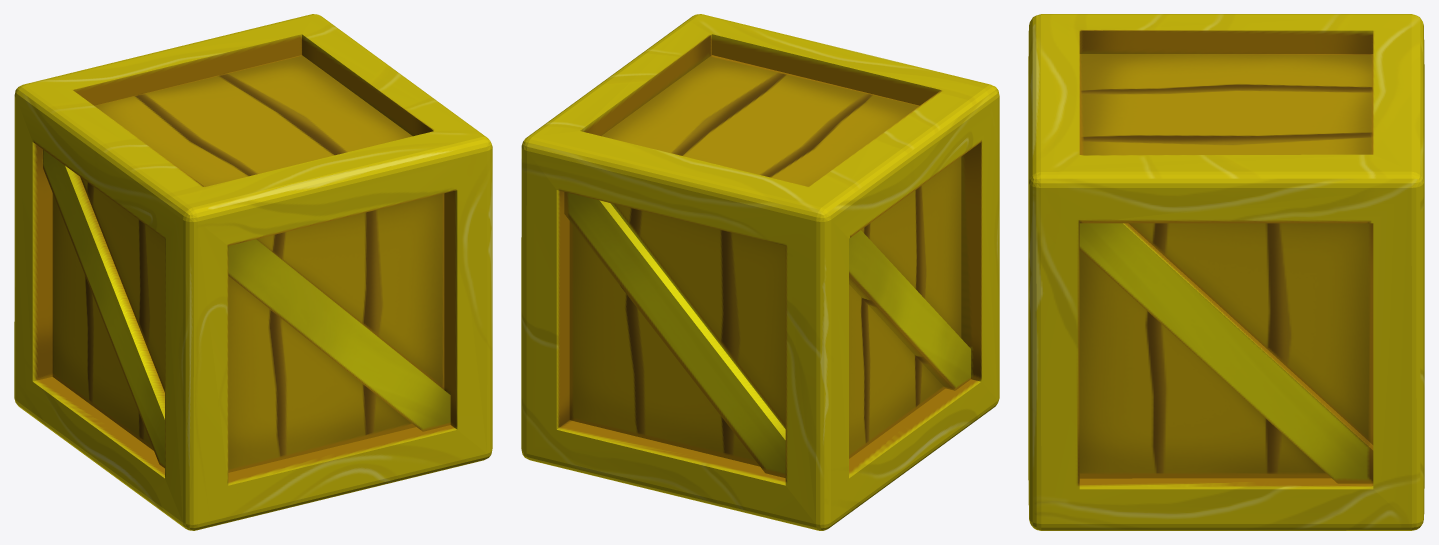
The model's file is Wood_Yellow_New.fbx.
3 views of the same model, side by side, from view 1: azimuth 30°, elevation 25°; view 2: azimuth 150°, elevation 25°; view 3: azimuth 270°, elevation 25° (orthographic). The views are drawn at different scales.
Visible parts, largest first — view 1: kocka_zuta1__2__38; view 2: kocka_zuta1__2__38; view 3: kocka_zuta1__2__38.
Boxes of the visible parts, x1,y1,x2,y2 form: kocka_zuta1__2__38: [14, 14, 492, 530]; kocka_zuta1__2__38: [521, 14, 999, 530]; kocka_zuta1__2__38: [1028, 14, 1424, 530].
Size of the model in its own units: 107 by 107 by 107.
1 material, 1 textured.
